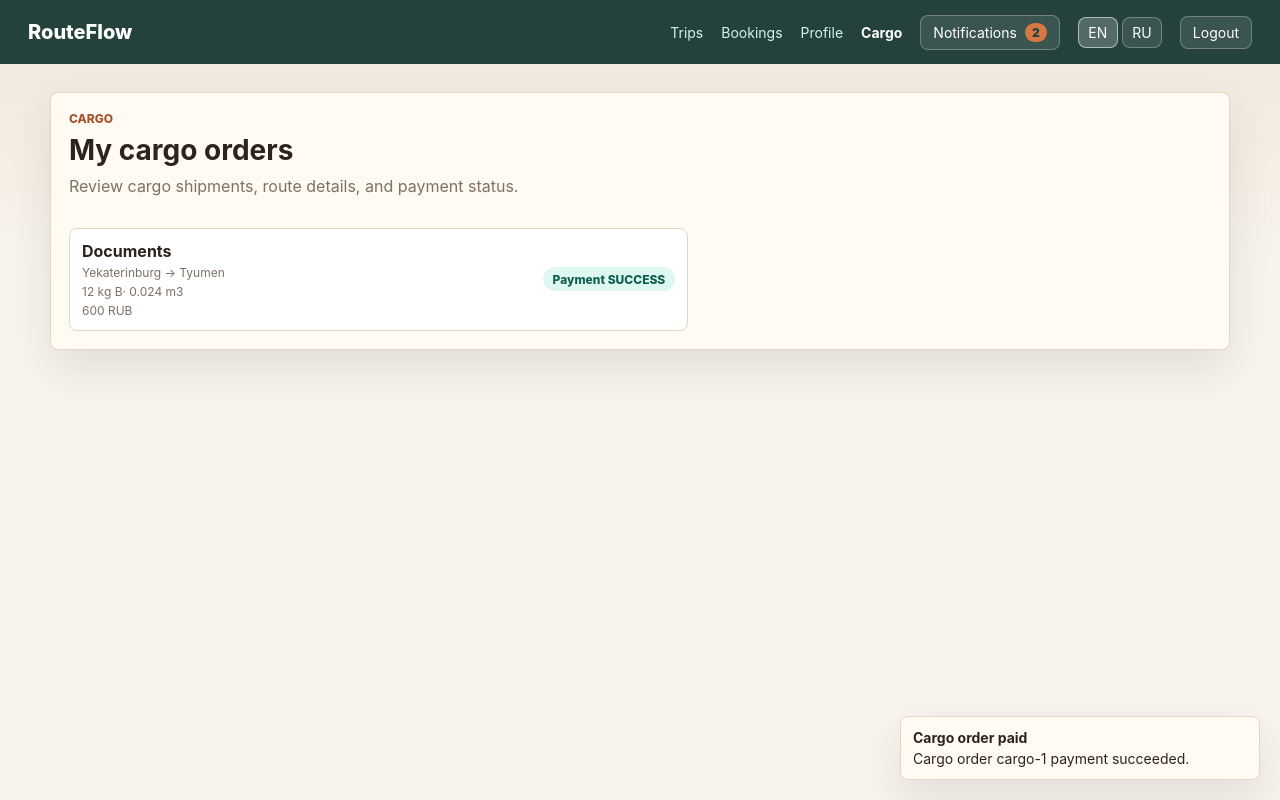
Test: App routes › cancels a current user's cargo order from details
expect the heading "My cargo orders" is shown: met, box [69,133,293,167]
Click the button with aria-label "Documents cargo-1". click: point(127, 251)
box: [69,228,688,331]
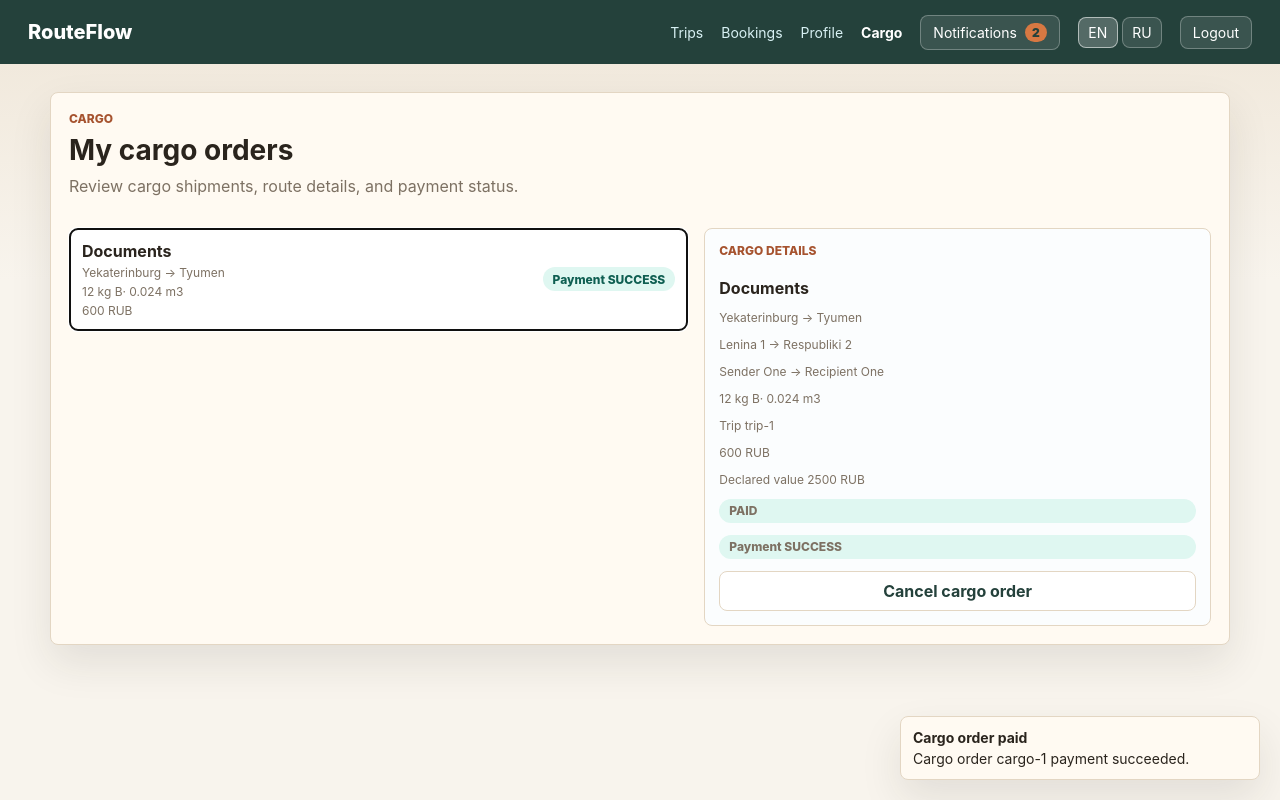
expect the text "Lenina 1 -> Respubliki 2" is shown: met, box [719,337,852,352]
Click the button "Cancel cargo order". click: point(958, 591)
box: [719,571,1196,611]
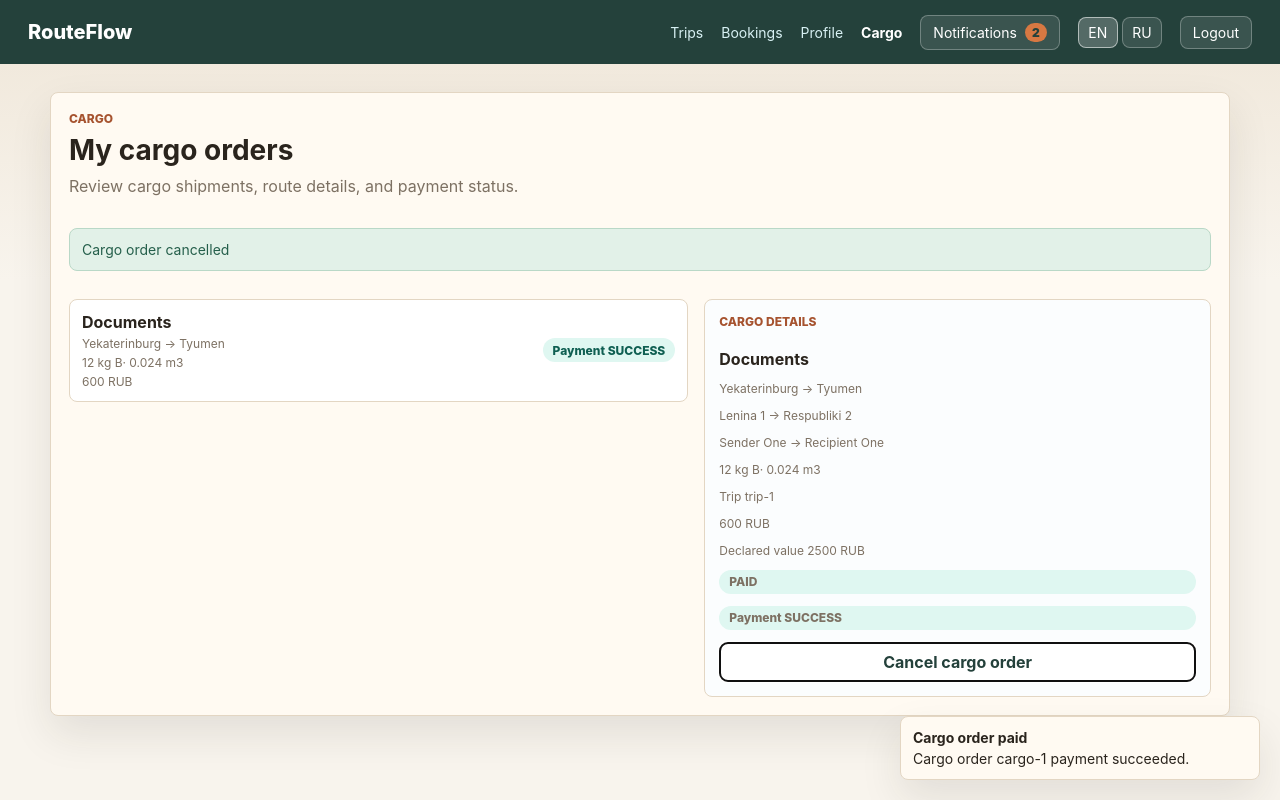
expect the text "Cargo order cancelled" is shown: met, box [69,228,1211,271]
